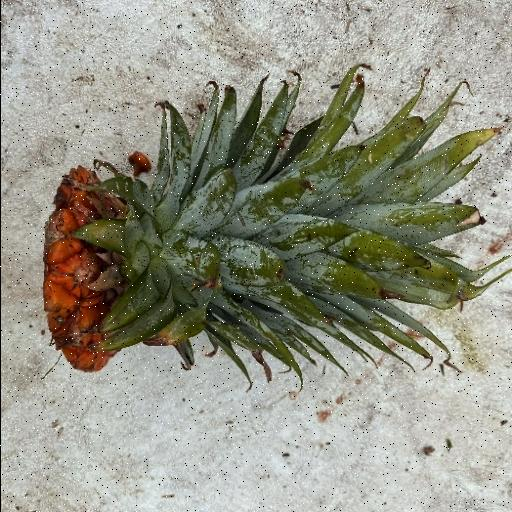Waste: (41, 62, 510, 394)
